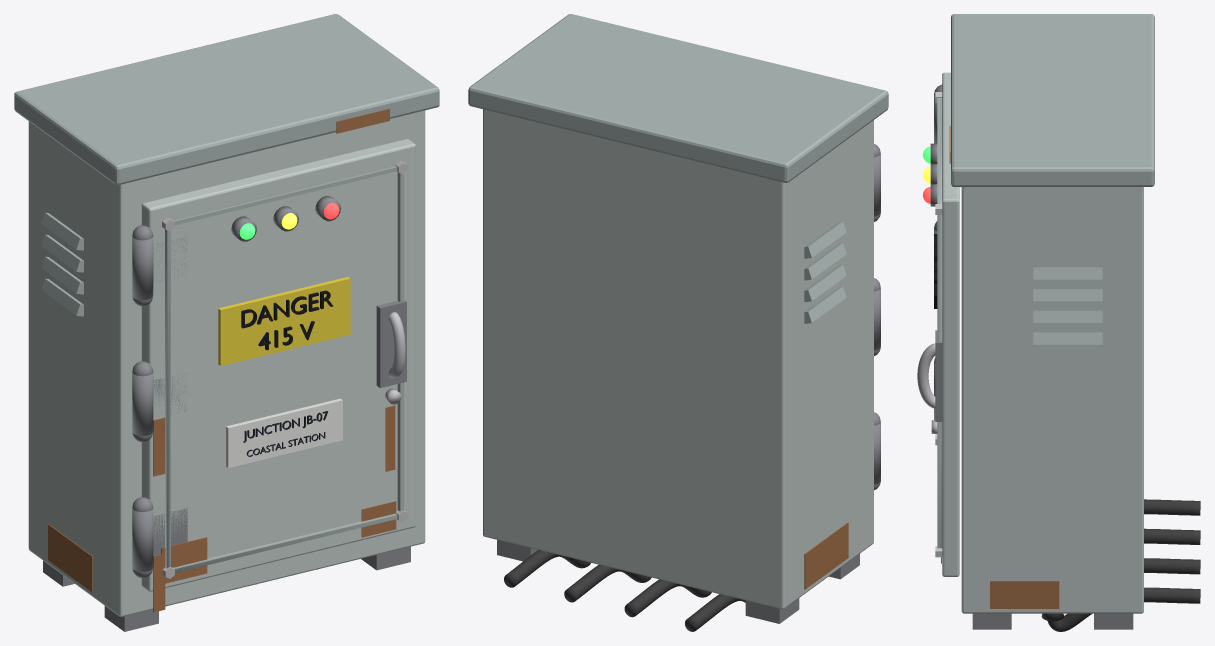
Rendered from cable-junction-cabinet-grouped.glb.
3 renders of one model, left to right at view 1: azimuth 30°, elevation 25°; view 2: azimuth 150°, elevation 25°; view 3: azimuth 270°, elevation 25°, orthographic.
Visible parts, largest first — view 1: Body_Group, Door_Group, Labels_Group, StaticBody, Lights_Group; view 2: Body_Group, StaticBody, Glands_Group, Door_Group; view 3: Body_Group, Door_Group, StaticBody, Glands_Group.
Boxes of the visible parts, <box> form: Body_Group: <box>14,14,439,631</box>; Door_Group: <box>132,139,415,591</box>; Labels_Group: <box>218,277,350,467</box>; StaticBody: <box>41,108,396,612</box>; Lights_Group: <box>239,202,339,239</box>; Body_Group: <box>468,14,888,623</box>; StaticBody: <box>804,221,848,589</box>; Glands_Group: <box>504,550,745,631</box>; Door_Group: <box>874,144,880,490</box>; Body_Group: <box>951,14,1154,629</box>; Door_Group: <box>917,72,959,576</box>; StaticBody: <box>930,126,1102,608</box>; Glands_Group: <box>1041,499,1200,631</box>.
Size of the model in its own units: 1.35 by 2 by 1.03.
